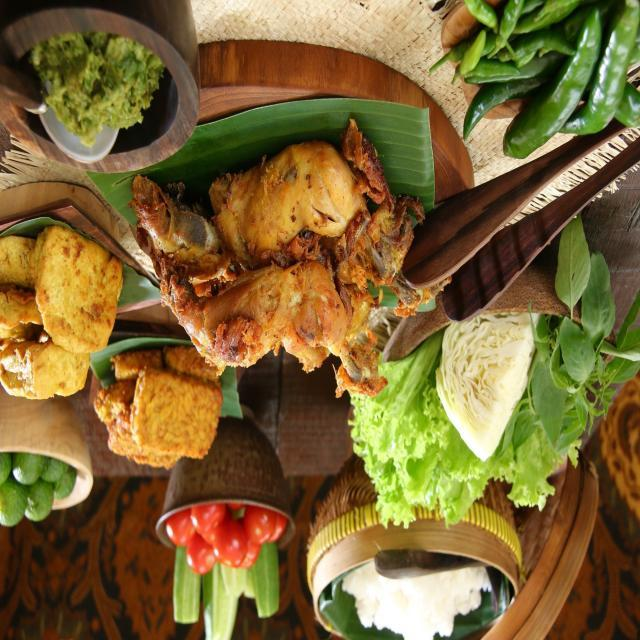ayam_goreng: (123, 116, 424, 404)
